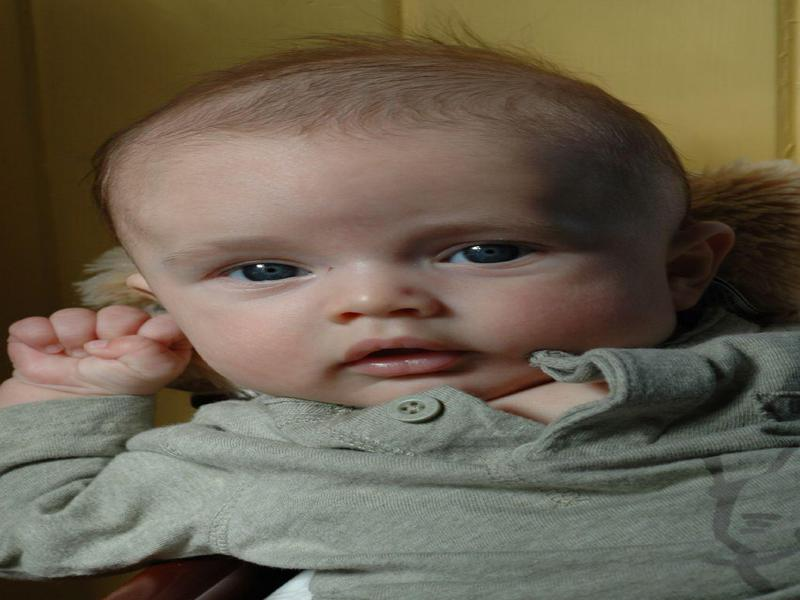person: (4, 51, 793, 600)
